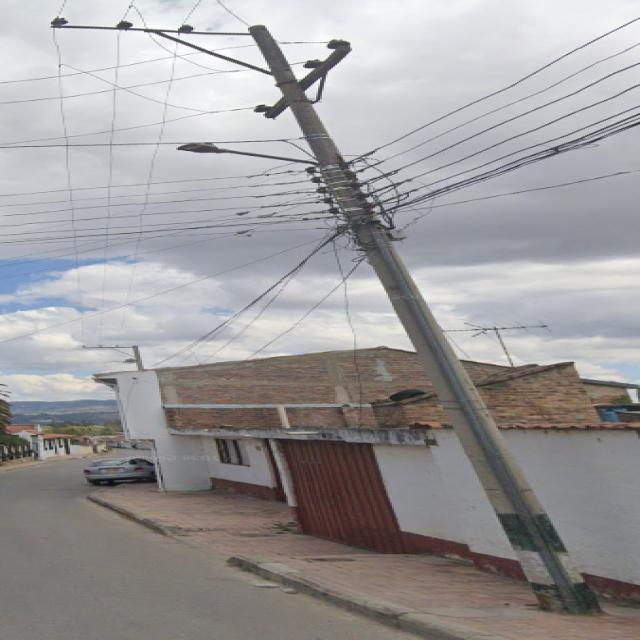Fachada: (97, 347, 432, 489), (583, 378, 638, 403), (464, 360, 509, 382)
Poste: (51, 0, 602, 614), (180, 143, 276, 158)
